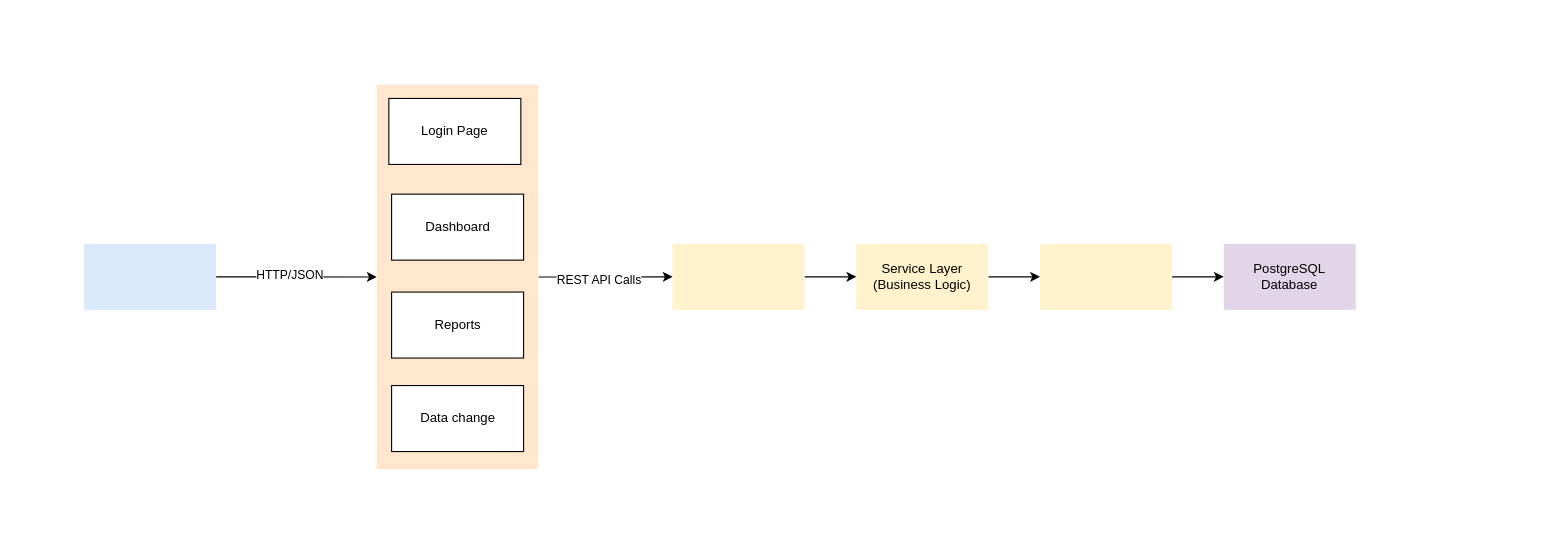
This 1554x554 diagram has some shape labels left out. The box of each missing label's shape, as (x1, y1, x2, y2) in pixels:
Controller Layer (Spring MCV): (672, 243, 804, 309)
Repository Layer (JPA/Hibernate): (1040, 243, 1172, 309)
User Browser (React/Vite SPA): (84, 243, 216, 309)
